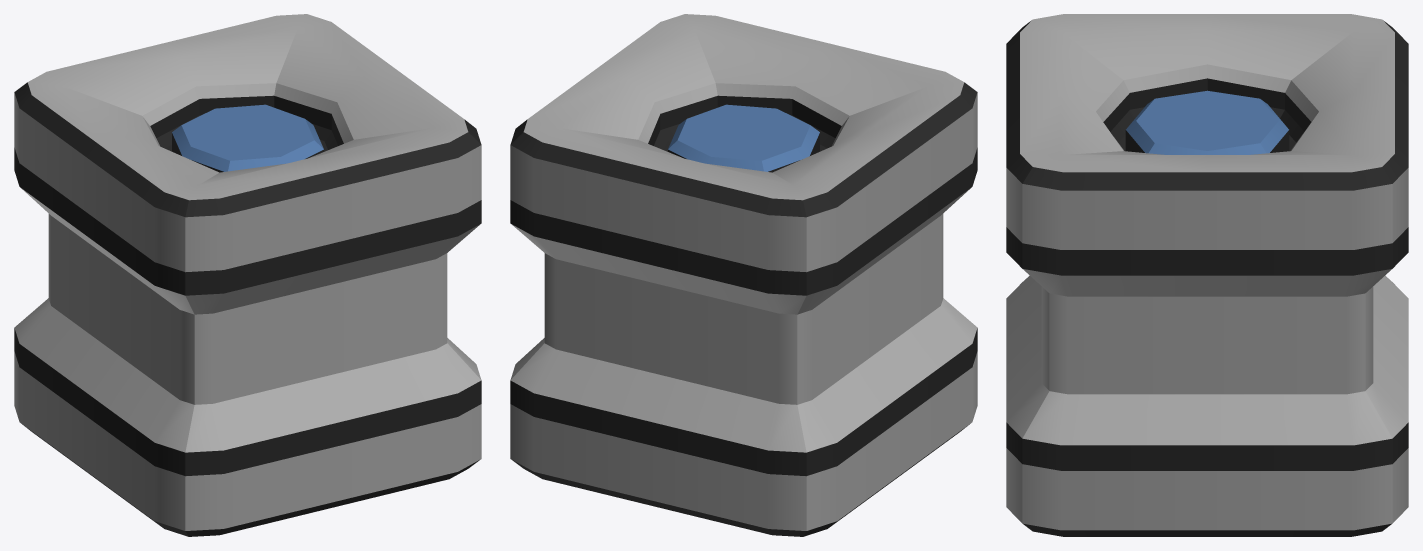
3 renders of one model, left to right at view 1: azimuth 30°, elevation 25°; view 2: azimuth 150°, elevation 25°; view 3: azimuth 270°, elevation 25°, orthographic. The views are drawn at different scales.
Parts seen in each view (by area): view 1: pCube3; view 2: pCube3; view 3: pCube3.
Boxes of the visible parts, <box> form: pCube3: <box>14,14,481,536</box>; pCube3: <box>510,14,977,536</box>; pCube3: <box>1006,14,1408,536</box>.
Size of the model in its own units: 100 by 100 by 100.
